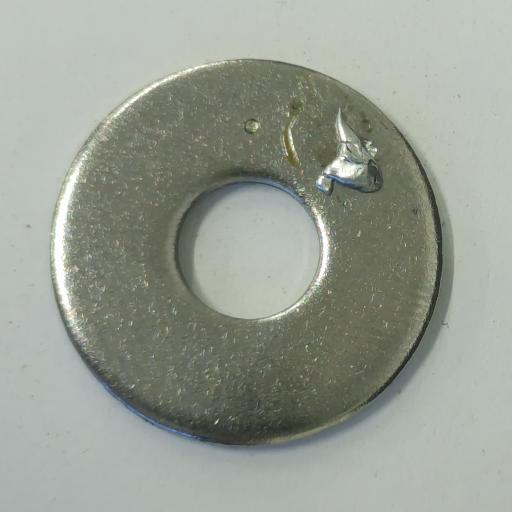excess_material: (316, 107, 383, 196)
